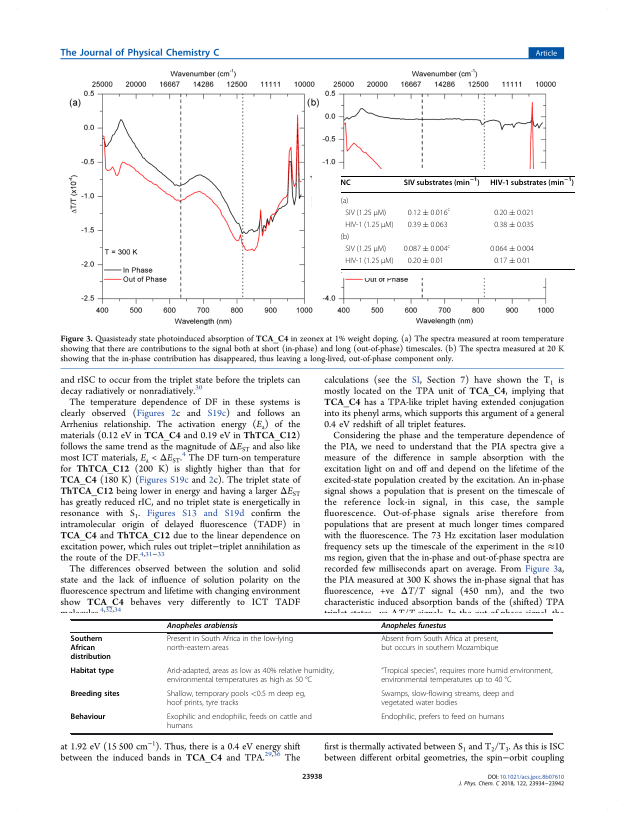borderless: (69, 618, 552, 733), (339, 174, 575, 269)
cell: (380, 667, 553, 686), (166, 667, 335, 686), (166, 713, 313, 732), (166, 690, 306, 709), (380, 690, 515, 709), (166, 635, 294, 654), (380, 635, 499, 654), (380, 713, 505, 723), (69, 635, 112, 663), (489, 177, 575, 187), (403, 177, 481, 187), (166, 622, 239, 631), (380, 622, 447, 631), (403, 243, 451, 254), (69, 690, 121, 700), (344, 220, 395, 230), (407, 207, 451, 218), (69, 667, 115, 677), (344, 257, 395, 266), (344, 208, 387, 218), (493, 208, 535, 218), (407, 220, 449, 230), (493, 220, 535, 230), (489, 245, 535, 254), (344, 245, 387, 254), (69, 713, 106, 723), (407, 257, 445, 266), (493, 257, 531, 266), (340, 178, 352, 187), (340, 196, 349, 206), (340, 233, 350, 242)
